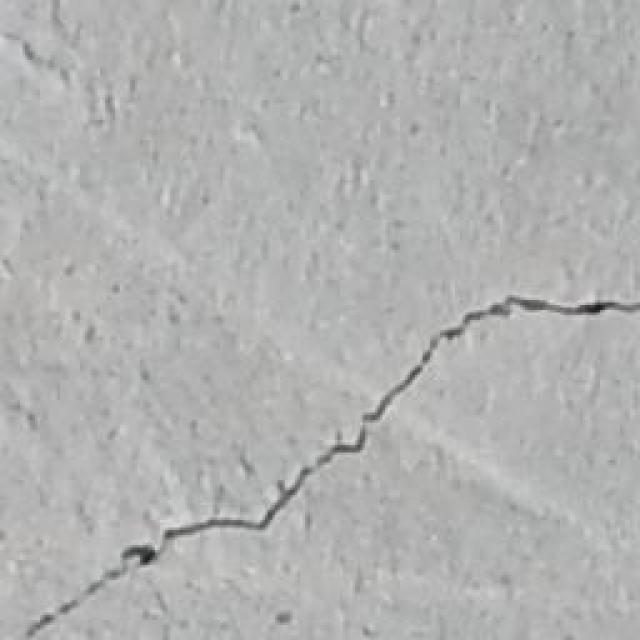concrete-crack: (18, 290, 640, 640)
